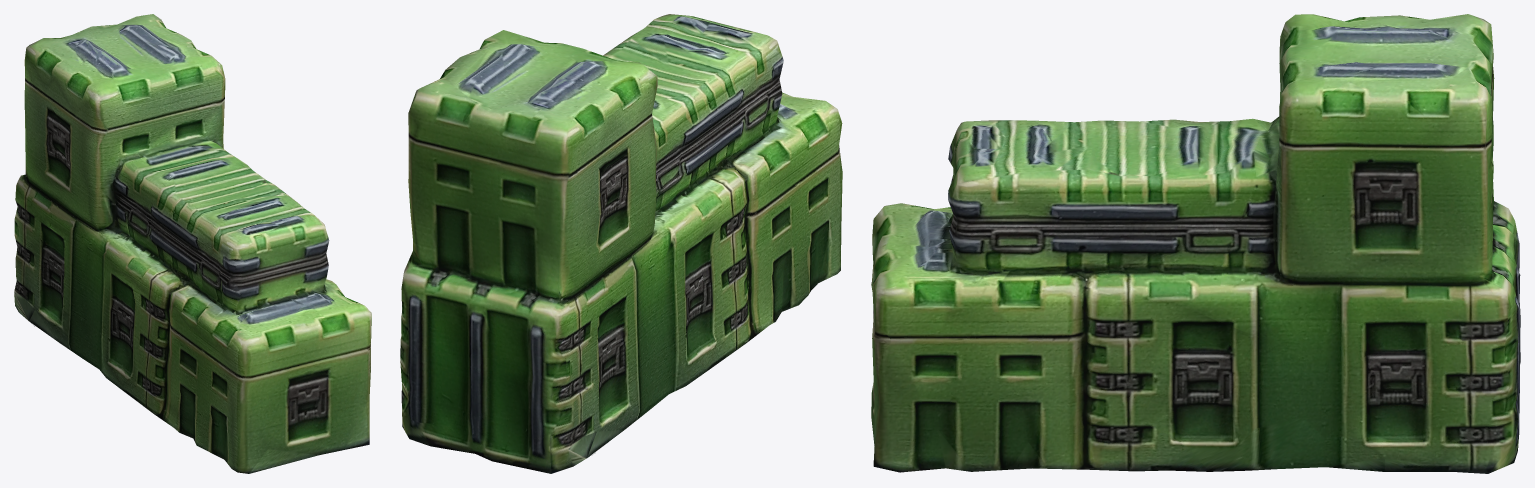
The model's file is supplies-size-2-2.glb.
3 renders of one model, left to right at view 1: azimuth 30°, elevation 25°; view 2: azimuth 150°, elevation 25°; view 3: azimuth 270°, elevation 25°, orthographic. The views are drawn at different scales.
Visible parts, largest first — view 1: Military_supplies_1; view 2: Military_supplies_1; view 3: Military_supplies_1.
Part boxes in pixels (x1=…): Military_supplies_1: x1=14, y1=14, x2=371, y2=473; Military_supplies_1: x1=400, y1=14, x2=842, y2=473; Military_supplies_1: x1=871, y1=14, x2=1520, y2=473.
Size of the model in its own units: 0.9587 by 1.79 by 2.75.
1 material, 1 textured.
